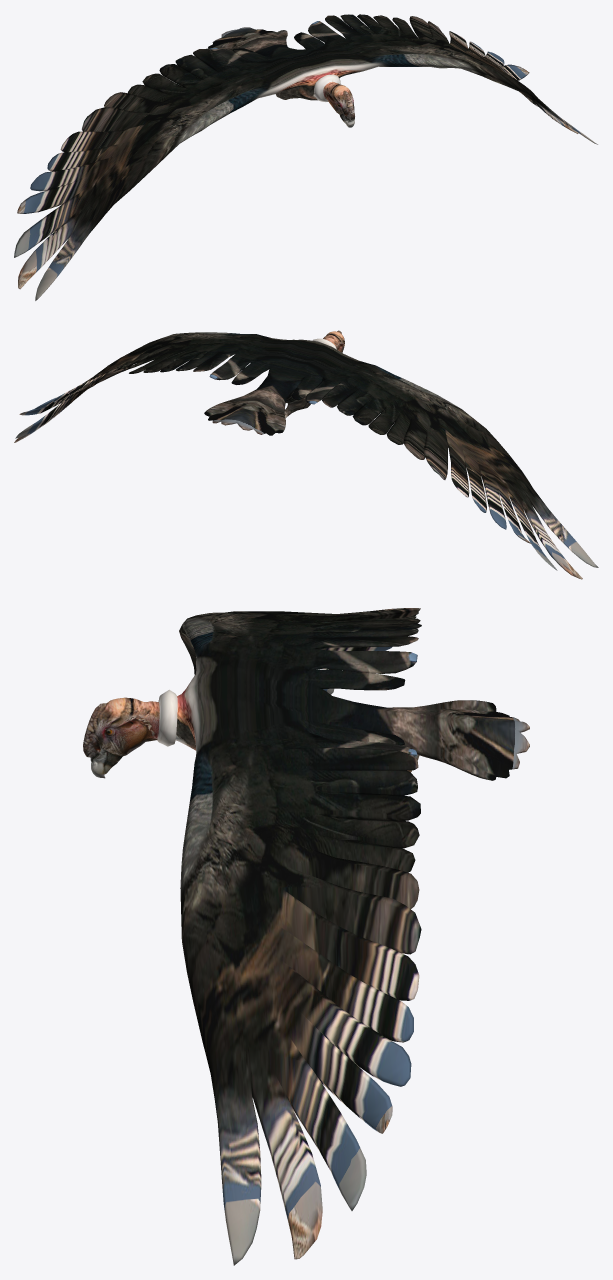
Rendered from asset.glb.
3 views of the same model, one above another, from view 1: azimuth 30°, elevation 25°; view 2: azimuth 150°, elevation 25°; view 3: azimuth 270°, elevation 25° (orthographic). The views are drawn at different scales.
Visible parts, largest first — view 1: condor001; view 2: condor001; view 3: condor001.
Part boxes in pixels (x1=…): condor001: x1=14, y1=14, x2=597, y2=300; condor001: x1=14, y1=330, x2=598, y2=579; condor001: x1=83, y1=608, x2=529, y2=1265.
Bounding box in the file's own units: 1517 × 416 × 522.
Materials: 1 (1 with a texture image).
